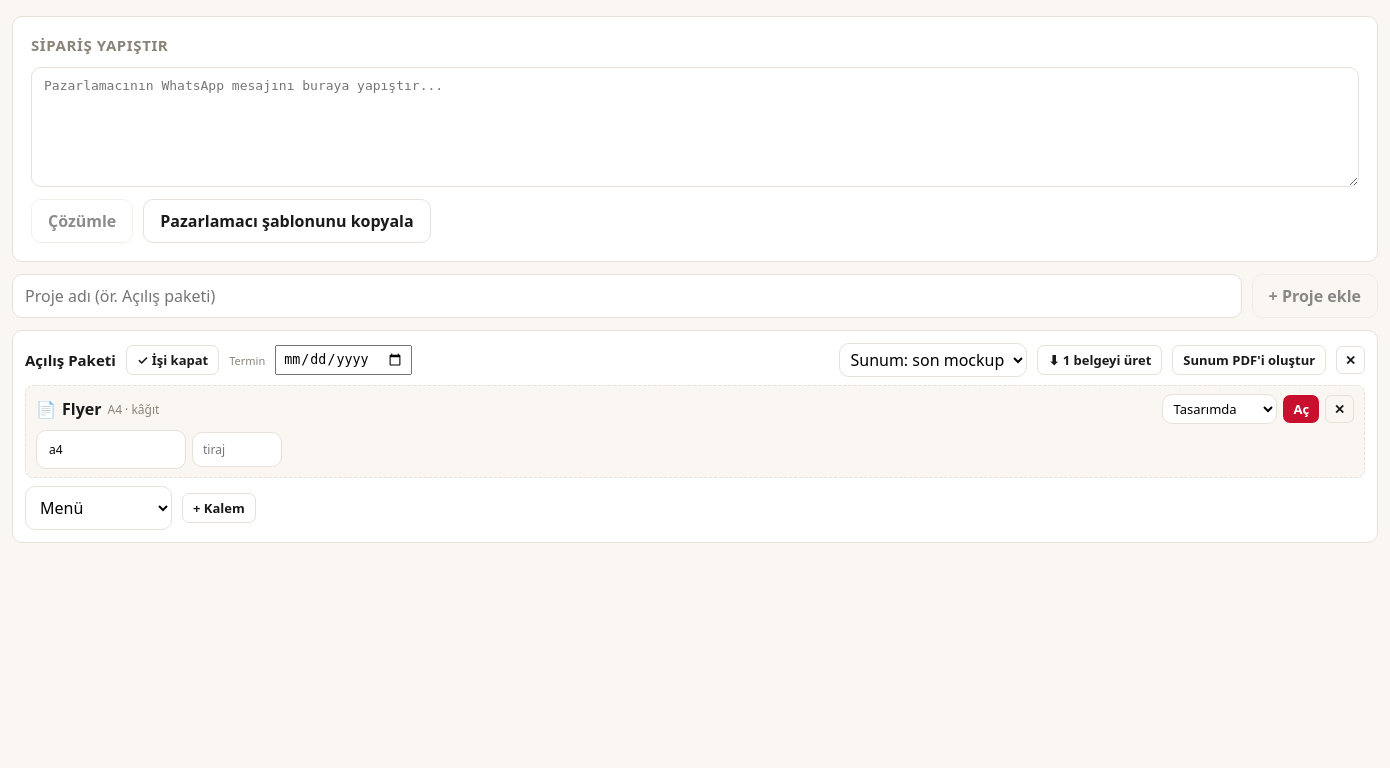
Test: toplu dışa aktarım düğmesi › ENGELLİ BELGE ÜRETİME GİTMEZ — bekçi atlatılmaz, sayılır
Click the button "⬇ 1 belgeyi üret".
click(1100, 360)  # box [1038,345,1162,375]
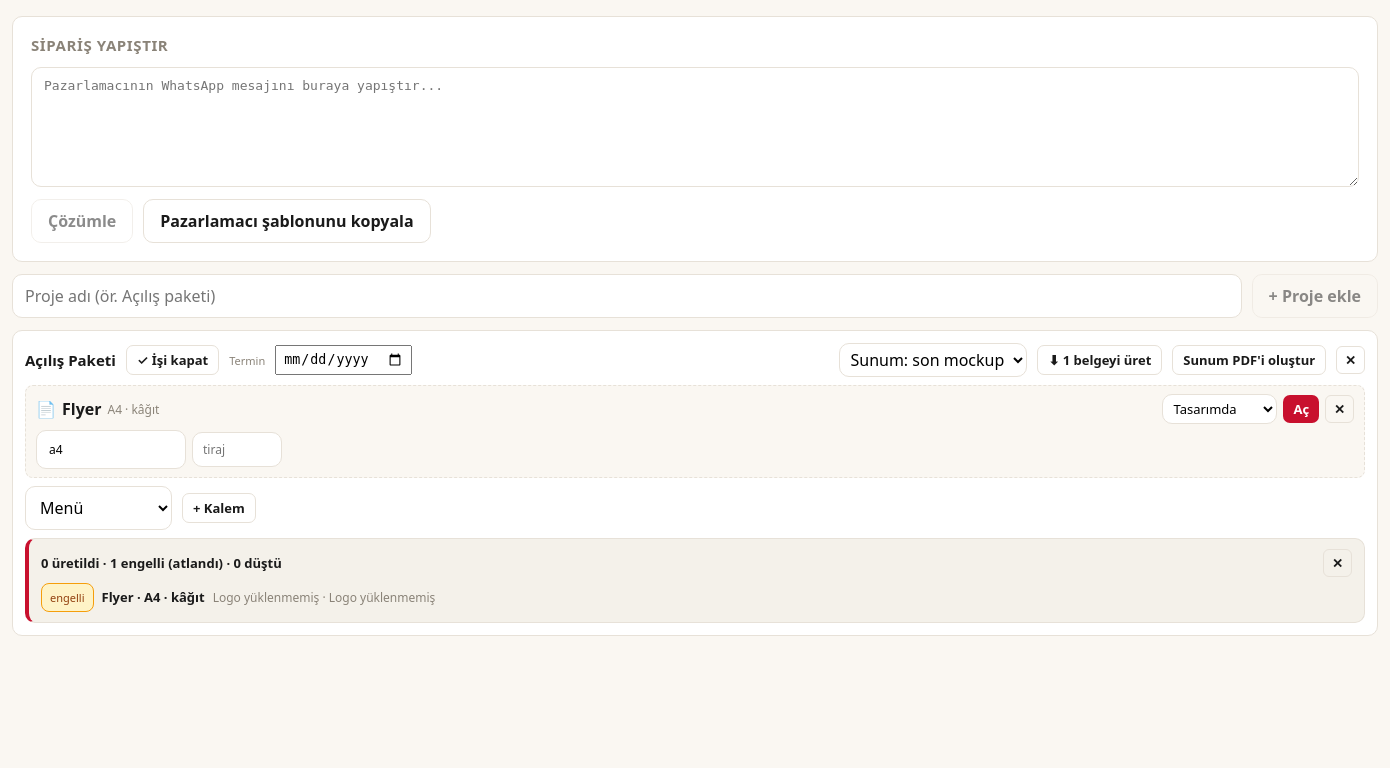
Result: the text "0 üretildi · 1 engelli (atlandı) · 0 düştü" is shown at [41,554,282,572]
